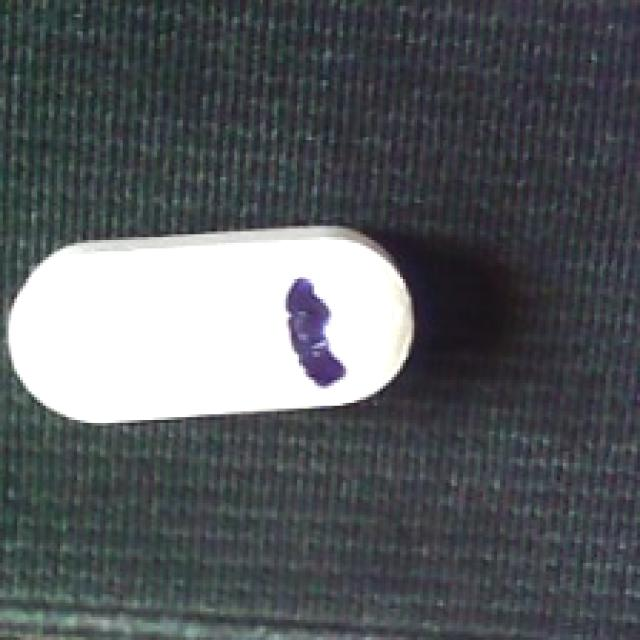defected: (6, 228, 426, 428)
